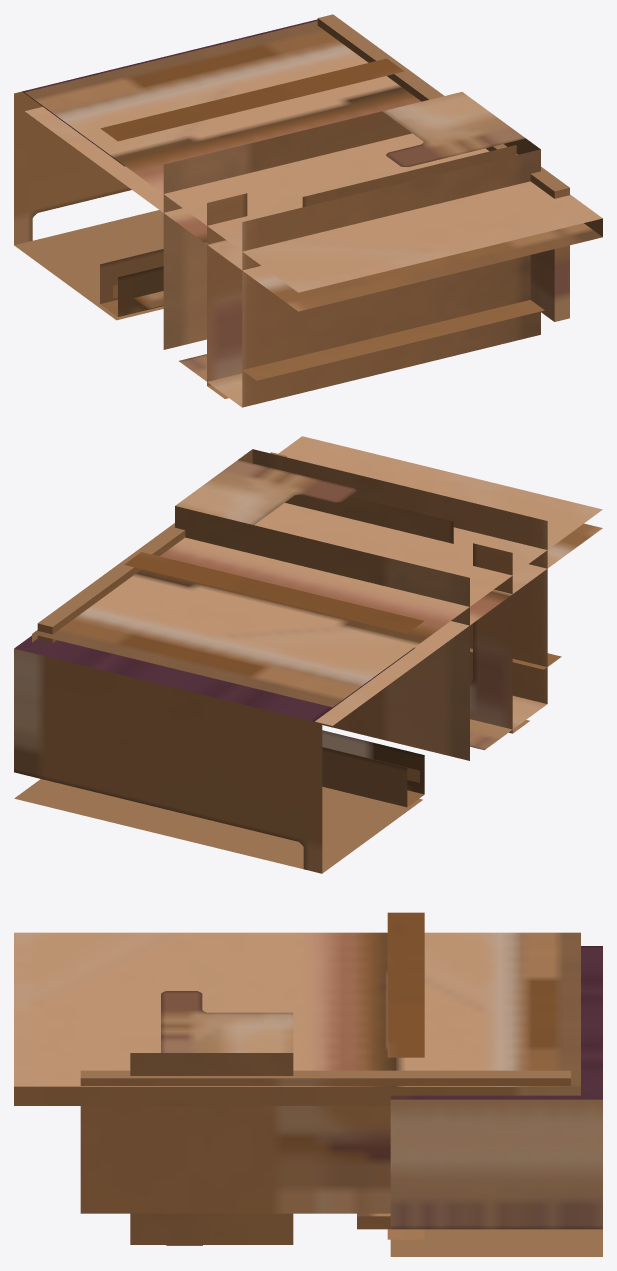
Rendered from section-7.obj.
3 views of the same model, one above another, from view 1: azimuth 30°, elevation 25°; view 2: azimuth 150°, elevation 25°; view 3: azimuth 270°, elevation 25° (orthographic). The views are drawn at different scales.
Bounding box in the file's own units: 0.91 × 0.53 × 1.44.
